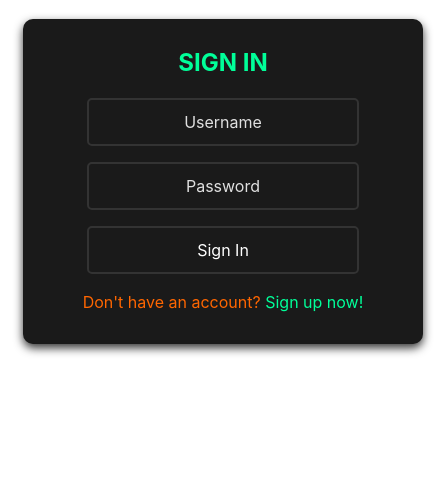
it: SignInForm Component › displays field-specific errors from the API
The width and height of the screenshot is (447, 504).
Type "wronguser" into the field with placeholder "Username". click: (223, 122)
box: 87,98 -> 359,146
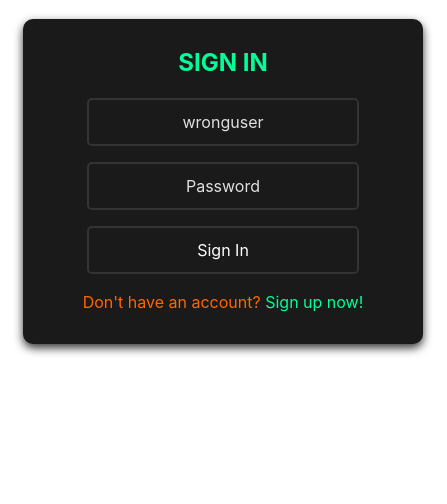
Type "wrongpassword" into the password field with placeholder "Password". click: (223, 186)
box: 87,162 -> 359,210
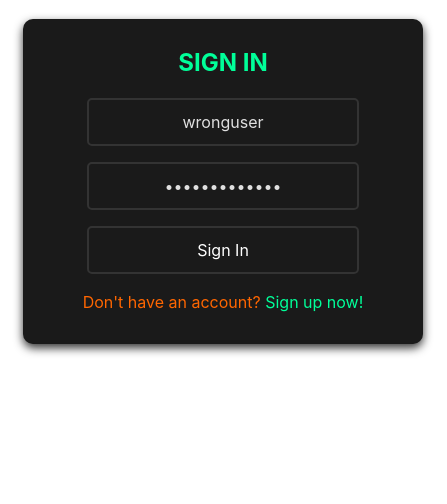
Click the button "Sign In". click: (223, 250)
box: 87,226 -> 359,274
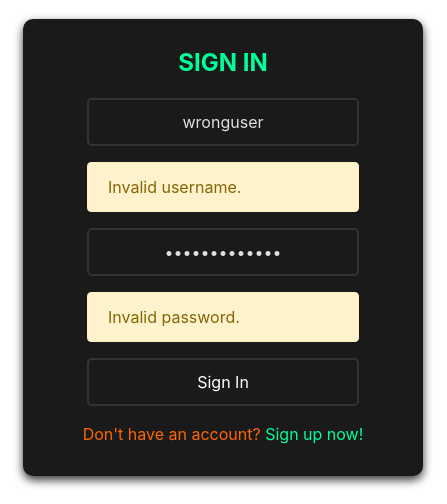
Expected: the text "Invalid username." is shown, 87,162 -> 359,212
Expected: the text "Invalid password." is shown, 87,292 -> 359,342
